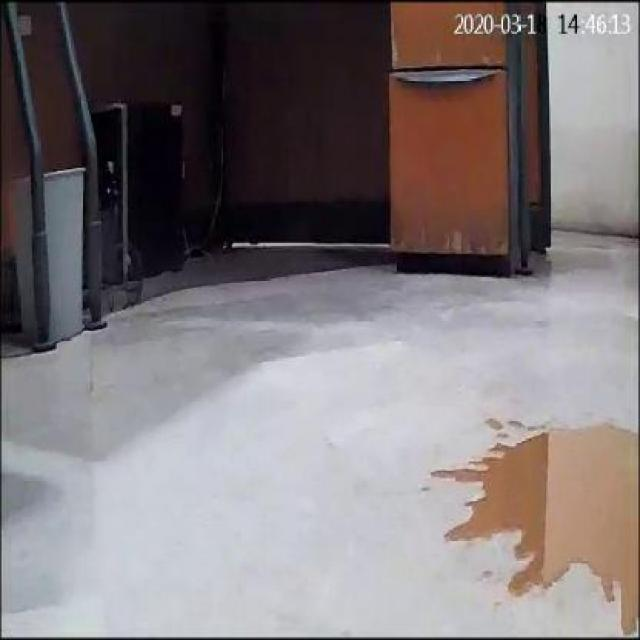spill: (436, 422, 636, 630)
